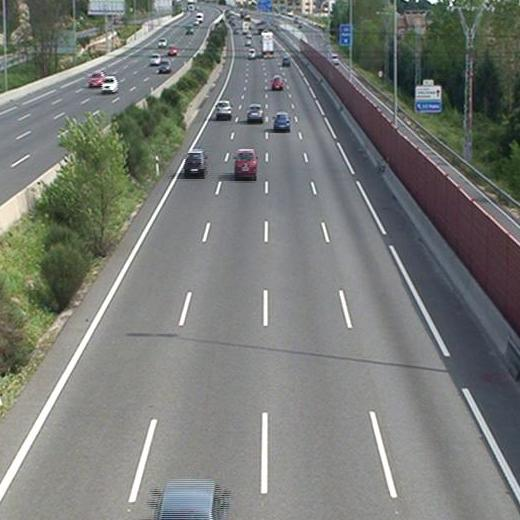car: (231, 148, 258, 182), (182, 150, 209, 176), (274, 111, 291, 132), (215, 100, 231, 119), (248, 103, 263, 121), (271, 74, 286, 92), (281, 55, 292, 68)
truck: (260, 32, 274, 58)
